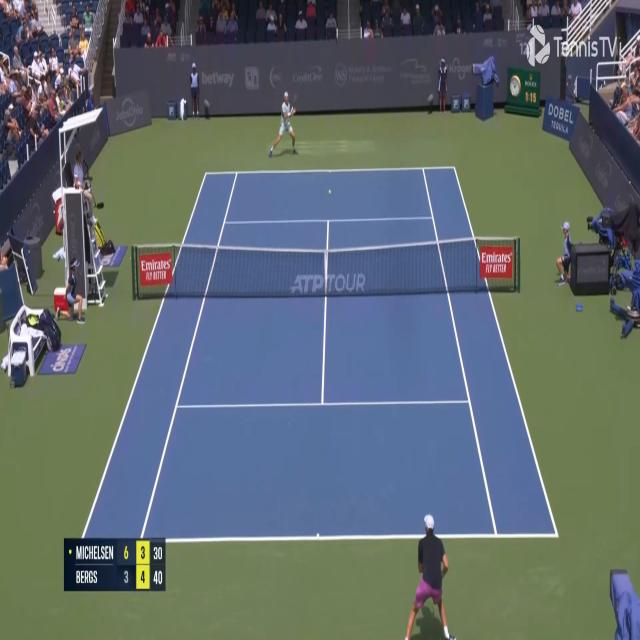tennis-player: (398, 508, 458, 639), (268, 90, 299, 159)
